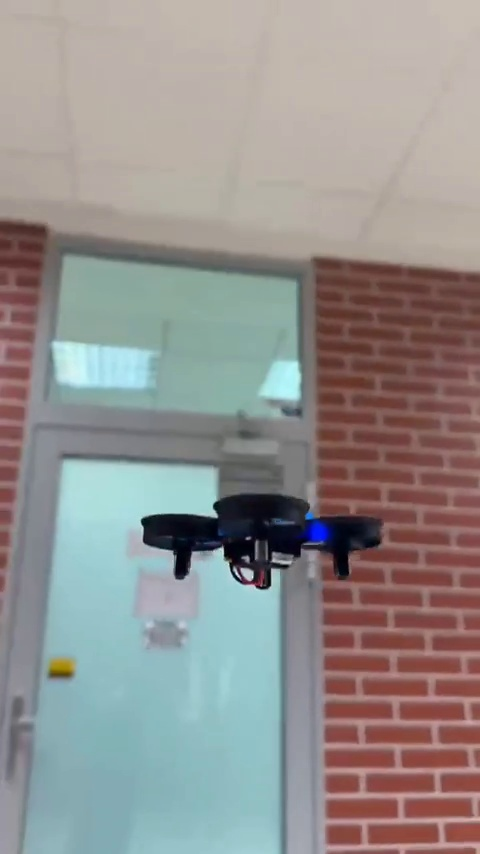drone: (135, 490, 385, 590)
